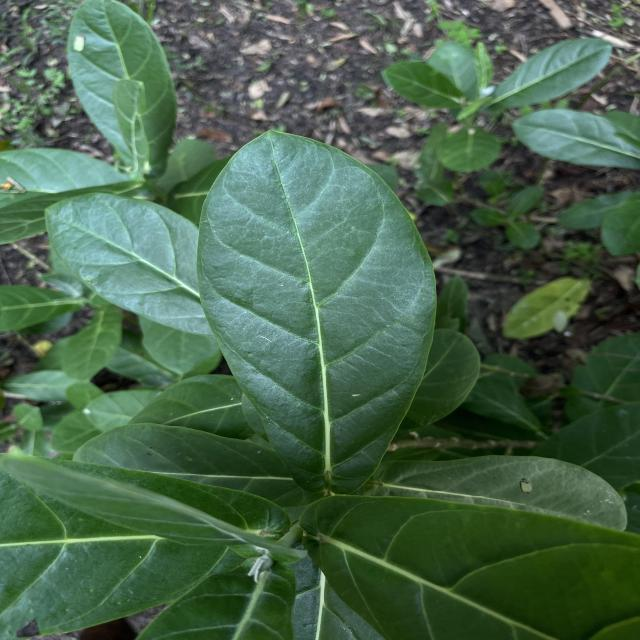Calotropis gigantea: (191, 122, 445, 498), (38, 192, 225, 340), (60, 0, 184, 176), (485, 30, 619, 109), (506, 108, 640, 176)
